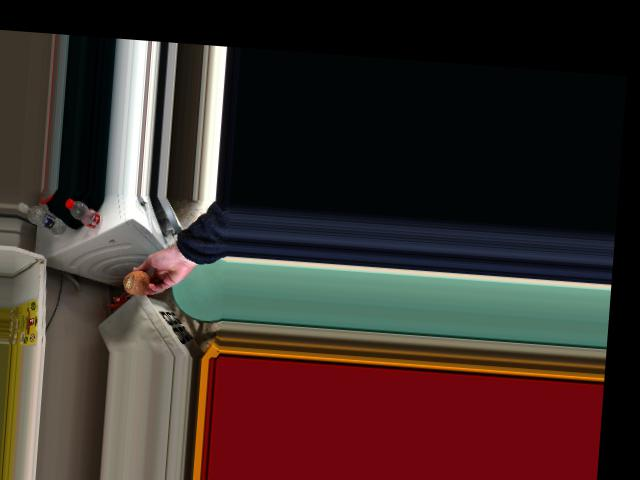sweet_potato: (123, 269, 153, 293)
